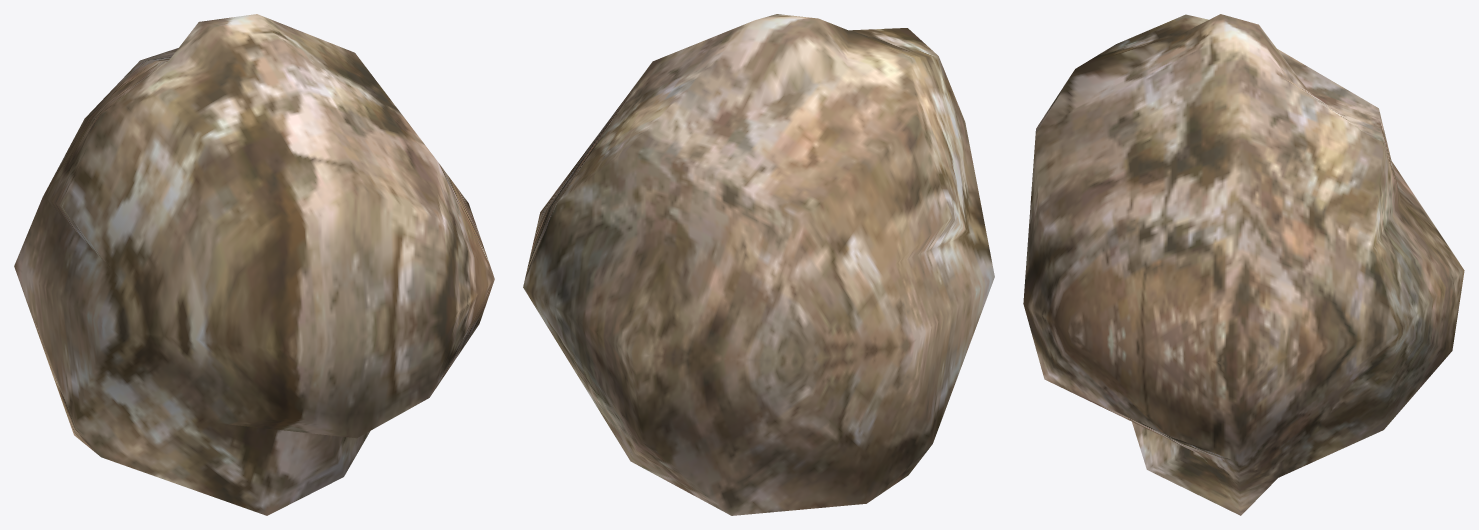
The model's file is thm_tato_cave_rock_med_l1.fbx.
3 renders of one model, left to right at view 1: azimuth 30°, elevation 25°; view 2: azimuth 150°, elevation 25°; view 3: azimuth 270°, elevation 25°, orthographic. The views are drawn at different scales.
Visible parts, largest first — view 1: mesh_node; view 2: mesh_node; view 3: mesh_node.
Part boxes in pixels (bbox=[...]): mesh_node: bbox=[14, 14, 494, 515]; mesh_node: bbox=[523, 14, 994, 515]; mesh_node: bbox=[1023, 14, 1464, 515].
Bounding box in the file's own units: 0.9928 × 1.14 × 0.9889.
1 material, 1 textured.
